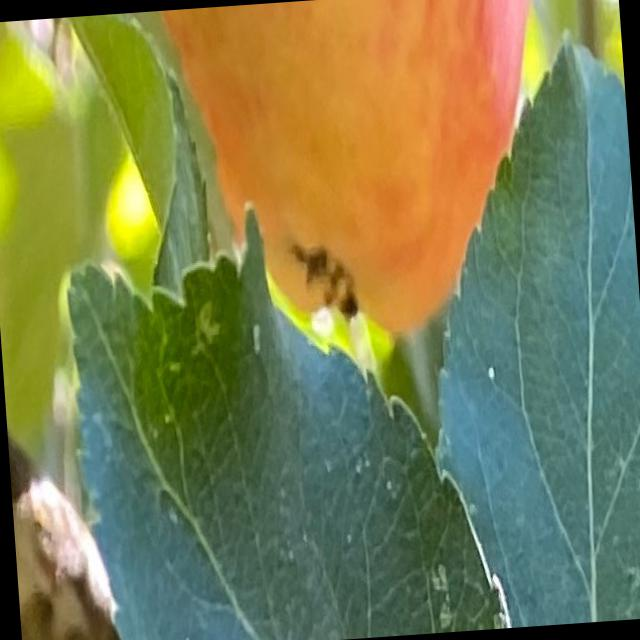Apples: (160, 0, 551, 355)
